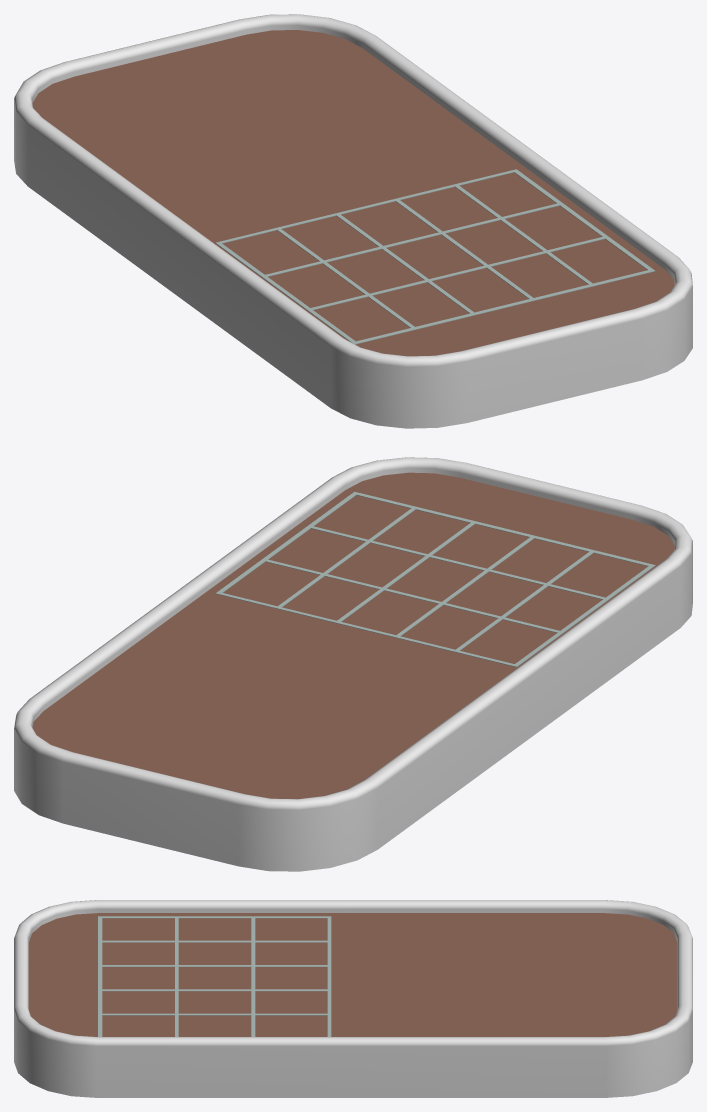
3 renders of one model, top to bottom at view 1: azimuth 30°, elevation 25°; view 2: azimuth 150°, elevation 25°; view 3: azimuth 270°, elevation 25°, orthographic. The views are drawn at different scales.
Visible parts, largest first — view 1: main, border, caro; view 2: main, border, caro; view 3: main, border, caro.
Part boxes in pixels (<box>): main: <box>32,30,674,356</box>; border: <box>14,14,692,428</box>; caro: <box>215,169,654,344</box>; main: <box>32,472,674,798</box>; border: <box>14,457,692,871</box>; caro: <box>215,491,655,667</box>; main: <box>28,913,677,1036</box>; border: <box>14,900,692,1097</box>; caro: <box>98,916,331,1036</box>.
Bounding box in the file's own units: 3000 × 552 × 6000.
